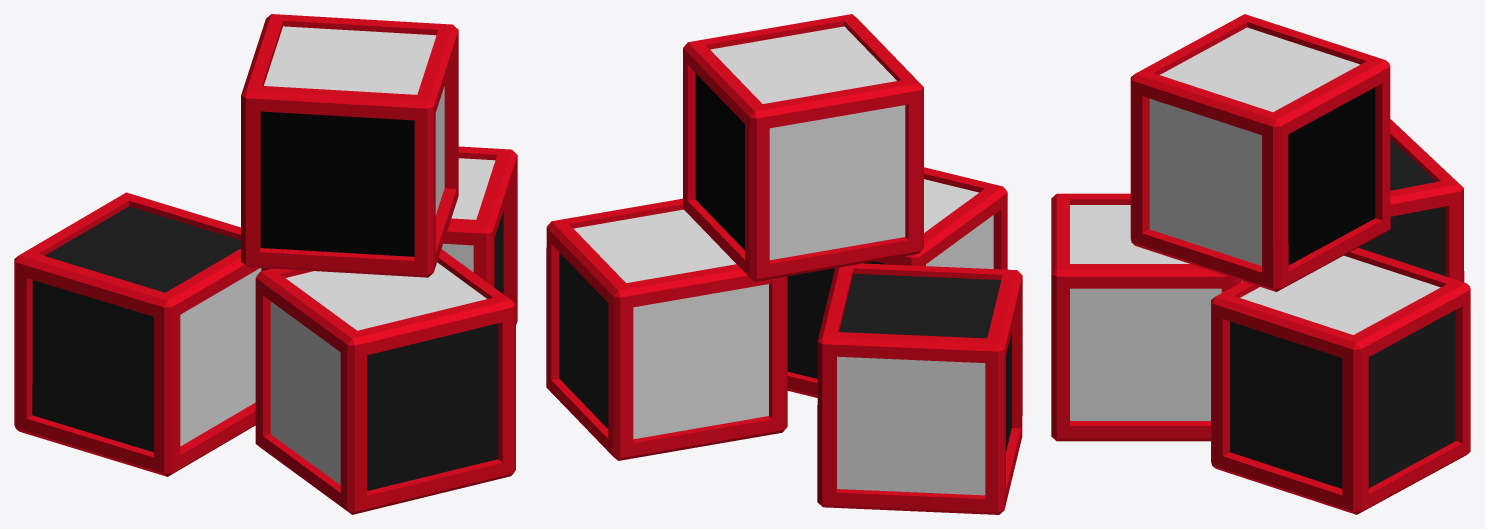
Rendered from kidsplayingblox.fbx.
3 views of the same model, side by side, from view 1: azimuth 30°, elevation 25°; view 2: azimuth 150°, elevation 25°; view 3: azimuth 270°, elevation 25° (orthographic). The views are drawn at different scales.
Parts seen in each view (by area): view 1: Cube, Cube.002, Cube.003, Cube.001; view 2: Cube.003, Cube.001, Cube.002, Cube; view 3: Cube.003, Cube.001, Cube, Cube.002.
Part boxes in pixels (x1,y1,x2,y2): Cube: (255,249,515,514); Cube.002: (14,192,271,476); Cube.003: (241,14,458,277); Cube.001: (441,146,517,324); Cube.003: (683,14,923,281); Cube.001: (546,198,787,460); Cube.002: (817,263,1022,514); Cube: (787,167,1007,397); Cube.003: (1130,14,1390,291); Cube.001: (1211,247,1470,514); Cube: (1051,193,1240,441); Cube.002: (1241,119,1464,282).
Size of the model in its own units: 577 by 404 by 442.
